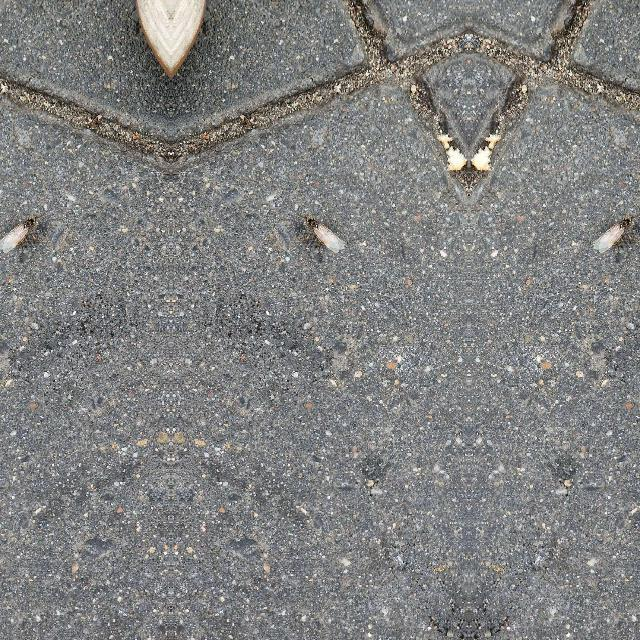Lasius: (300, 210, 348, 256), (589, 210, 637, 256), (0, 210, 40, 256)
